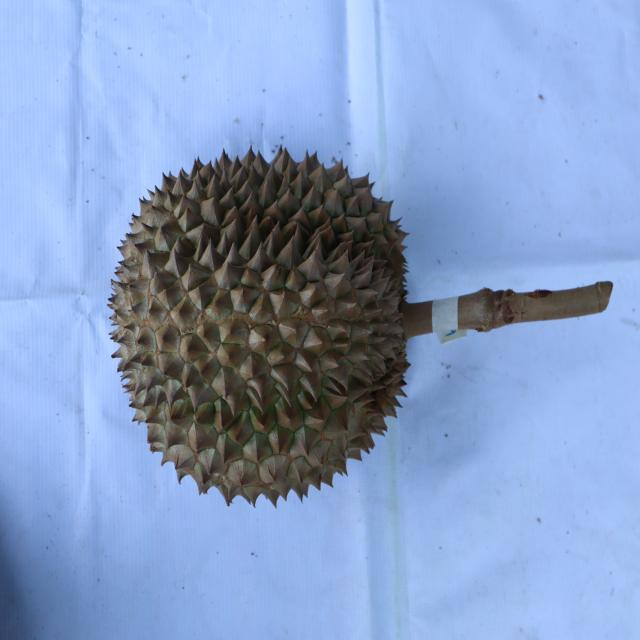mature: (106, 140, 414, 512)
